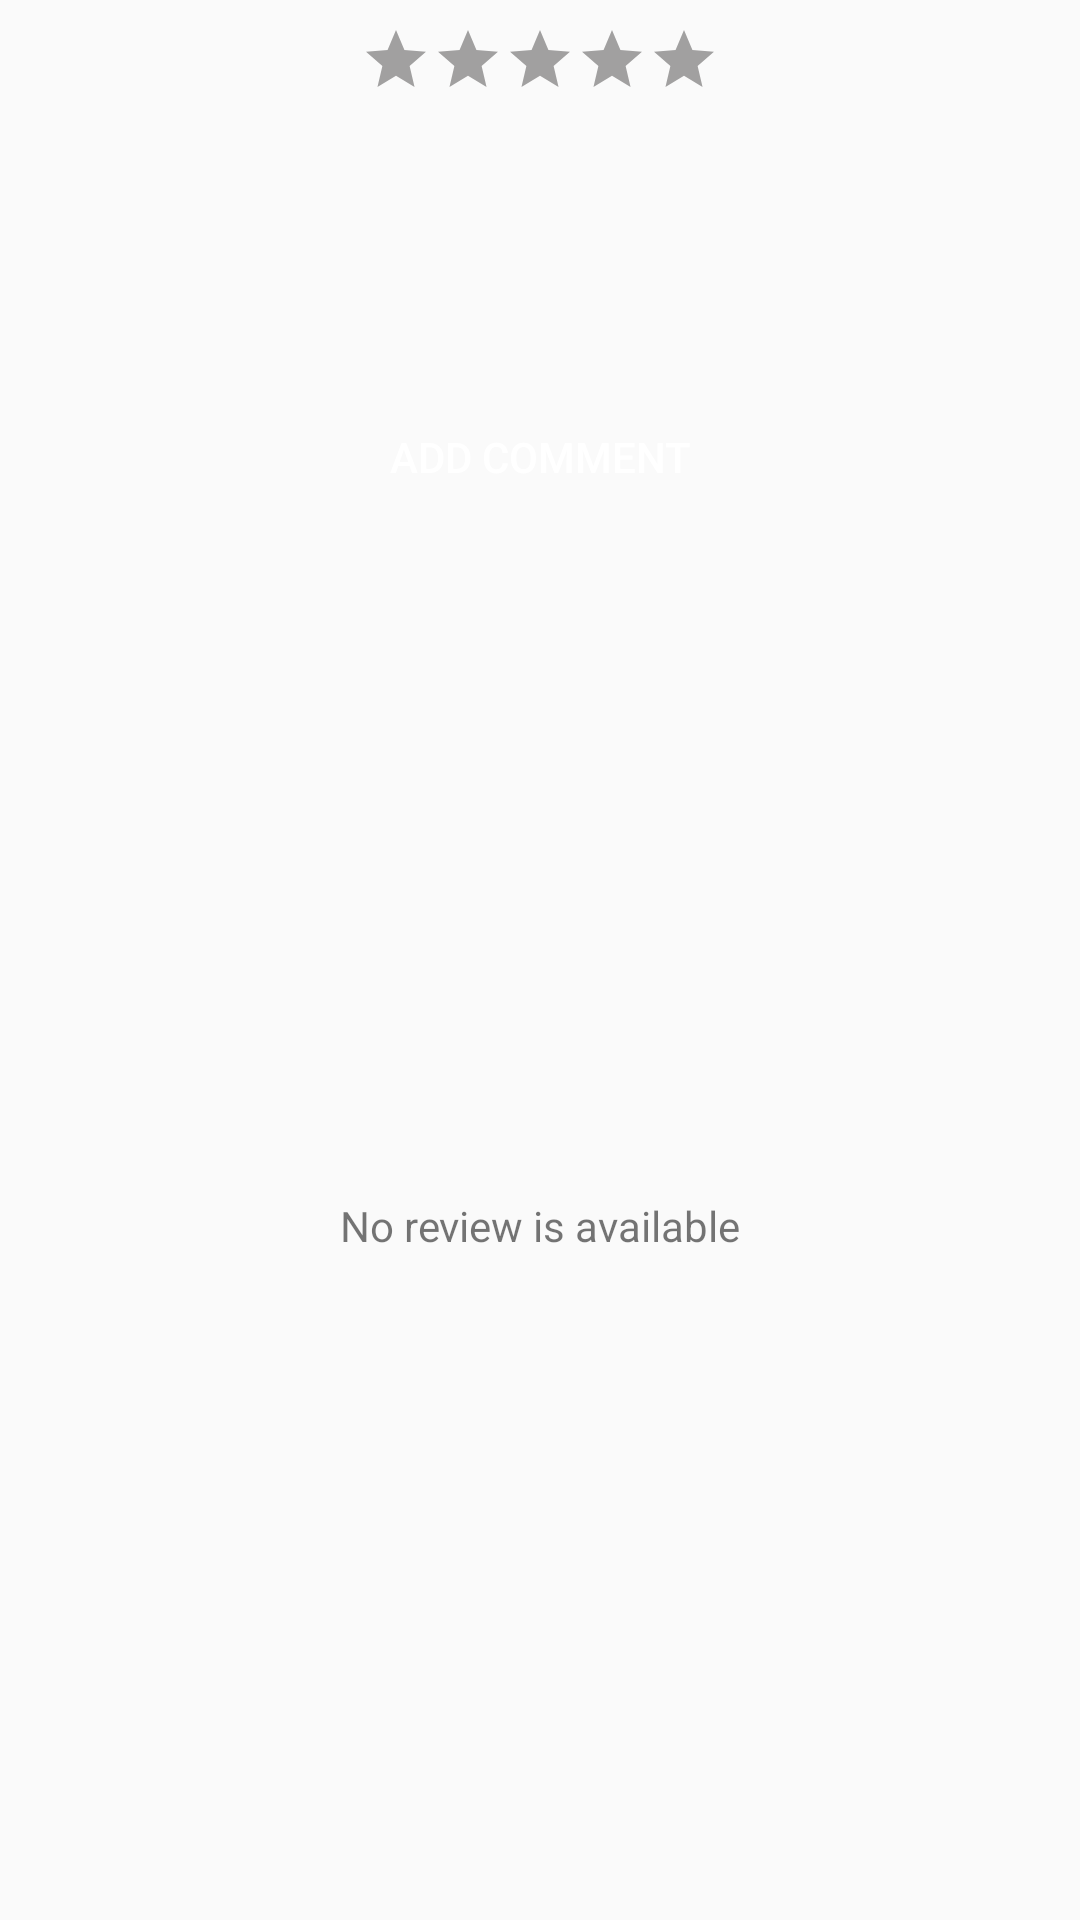

Screen size 1080*1920. Icon name, then its center in pixels as (x,y):
star blankl: (396,59), (468,59), (540,59), (612,59), (684,59)
